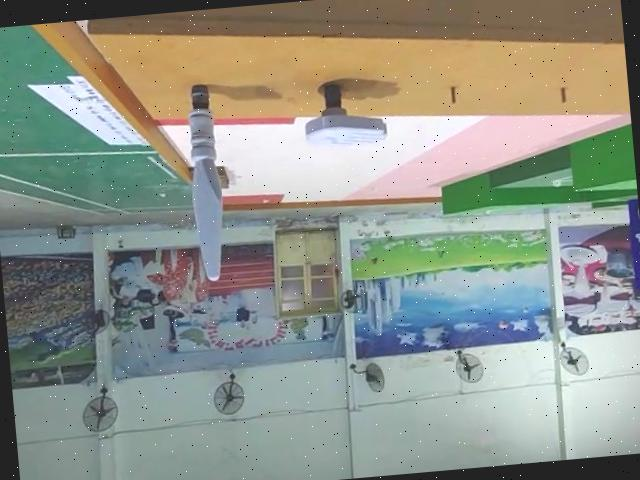Hand: (301, 79, 391, 156)
Sph: (179, 78, 233, 285)
